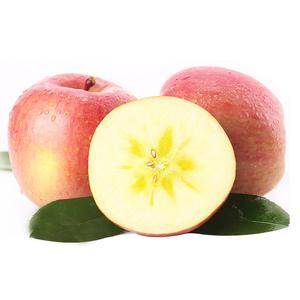apple: (122, 74, 281, 224), (7, 72, 137, 205)
